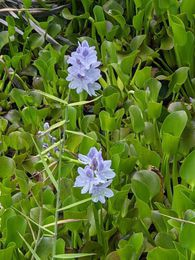water_hyacinth: (0, 33, 195, 260)
